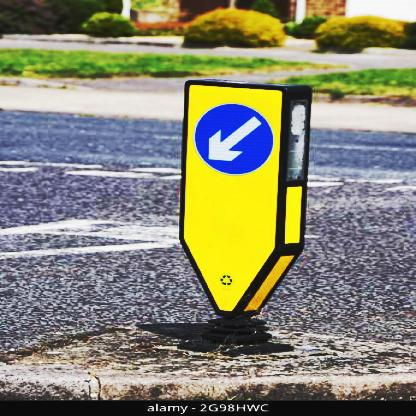Keep left: (193, 94, 276, 178)
